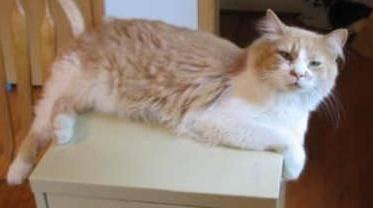cat: (7, 9, 349, 182)
